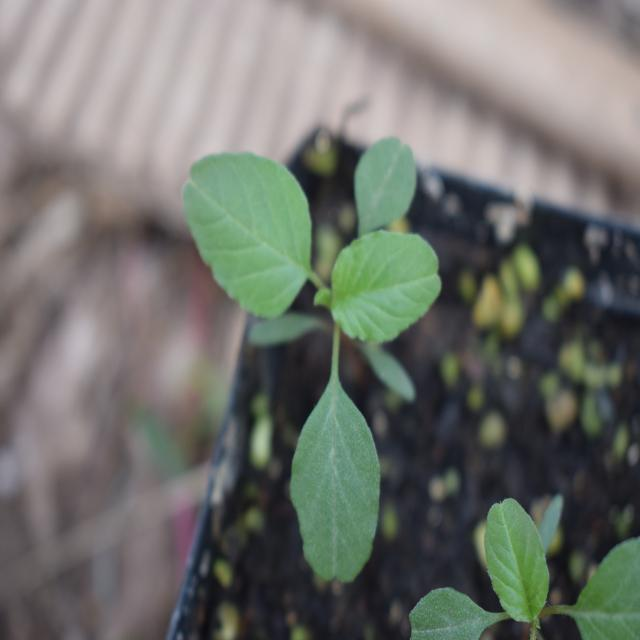pigweed: (177, 144, 442, 571)
